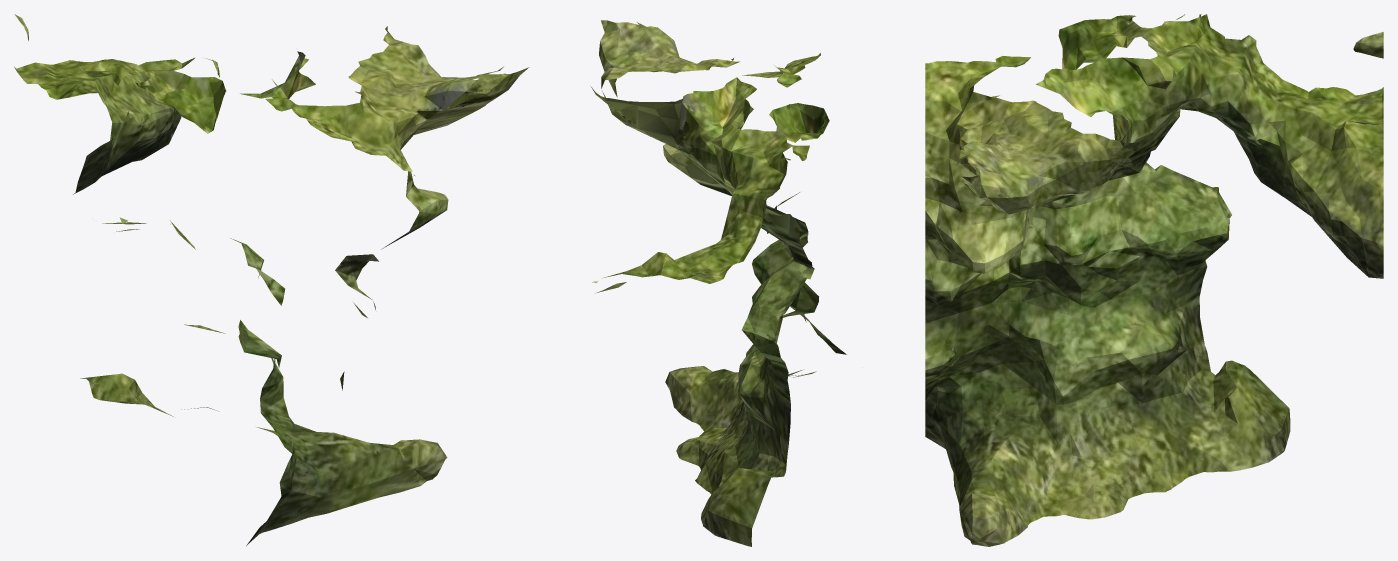
3 views of the same model, side by side, from view 1: azimuth 30°, elevation 25°; view 2: azimuth 150°, elevation 25°; view 3: azimuth 270°, elevation 25° (orthographic). The views are drawn at different scales.
Size of the model in its own units: 2.49 by 2.95 by 2.95.
Materials: 4 (4 with a texture image).
